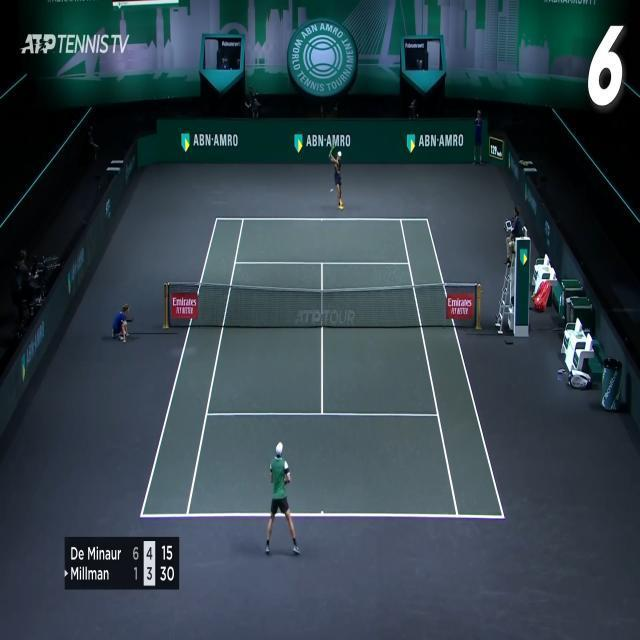court: (138, 217, 506, 518)
net: (164, 282, 482, 328)
player: (265, 441, 301, 555)
